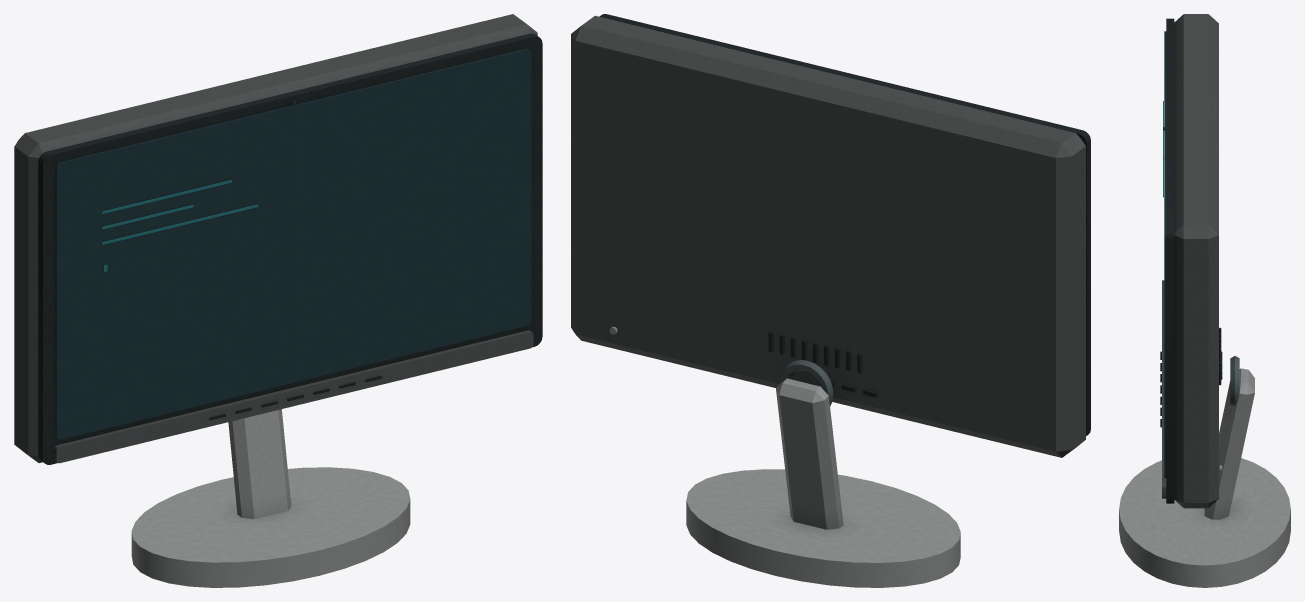
The model's file is monoblock_pc.obj.
3 views of the same model, side by side, from view 1: azimuth 30°, elevation 25°; view 2: azimuth 150°, elevation 25°; view 3: azimuth 270°, elevation 25° (orthographic). The views are drawn at different scales.
Parts seen in each view (by area): view 1: monoblock_pc_static_0, monoblock_pc_static_1; view 2: monoblock_pc_static_0; view 3: monoblock_pc_static_0.
Part boxes in pixels (bbox=[...]): monoblock_pc_static_0: bbox=[14, 14, 542, 587]; monoblock_pc_static_1: bbox=[102, 180, 258, 271]; monoblock_pc_static_0: bbox=[571, 14, 1090, 587]; monoblock_pc_static_0: bbox=[1119, 14, 1290, 587].
Size of the model in its own units: 0.588 by 0.5135 by 0.194.
2 materials, 1 textured.
